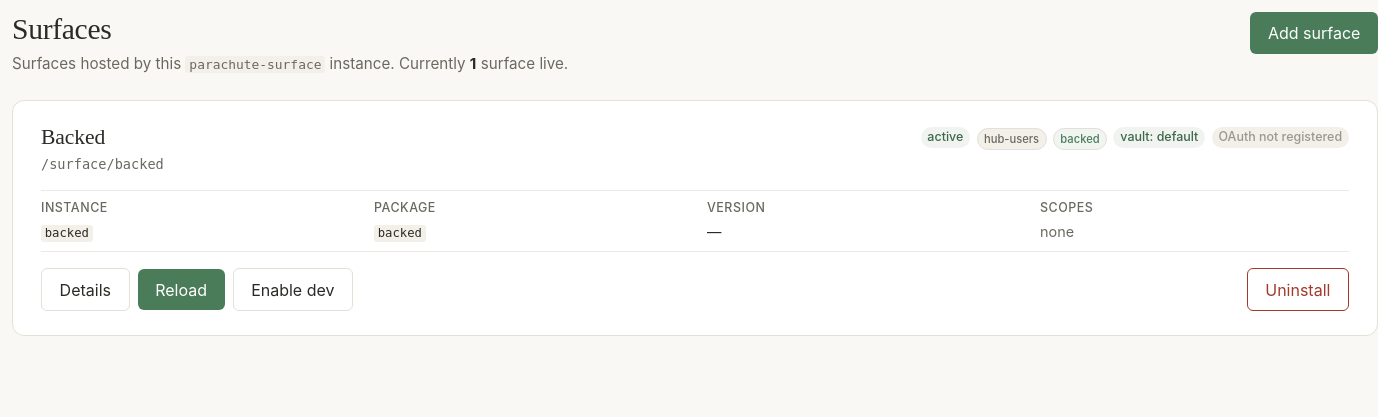
Test: Modules › hub teardown failure + operator declines → nothing removed (two-step honest ask)
Click the button "Uninstall".
click(1298, 290)  # box [1247,268,1349,312]
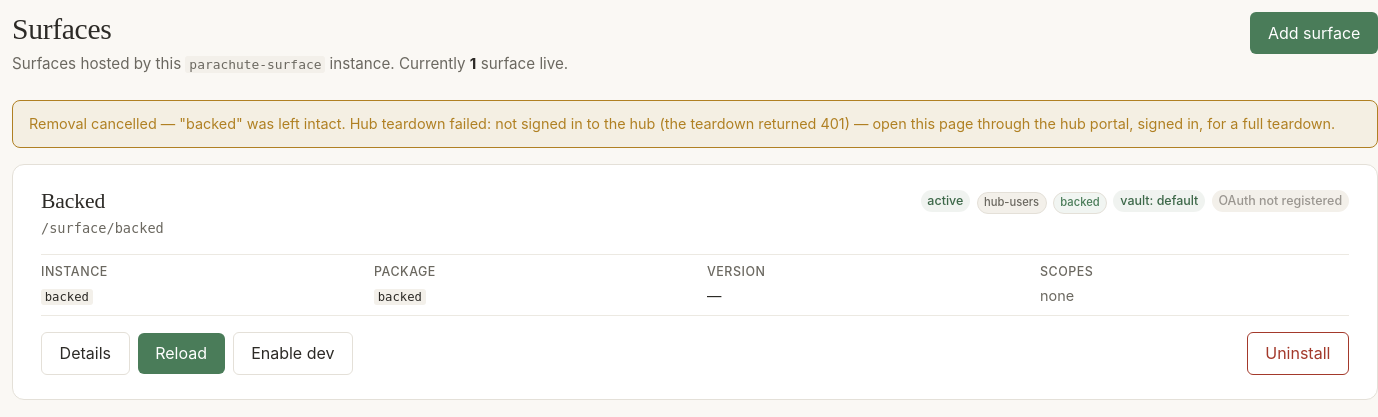
Expected: the text "Removal cancelled" is shown, [29,115,1335,132]
